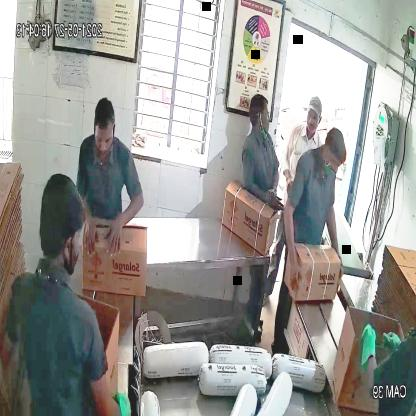no_goggles: (90, 131, 116, 150), (324, 154, 346, 174)
